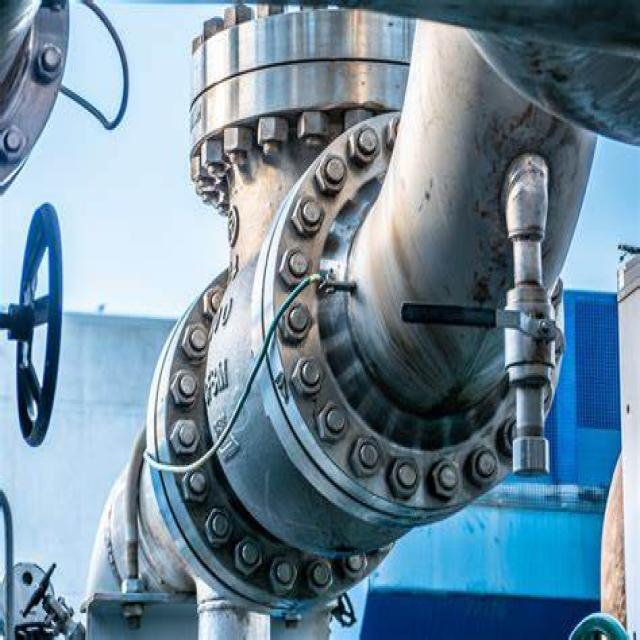blur bolt: (35, 38, 65, 83), (1, 121, 27, 166), (342, 544, 370, 582)
bolt head: (304, 552, 335, 598), (266, 553, 297, 597), (231, 535, 262, 577), (203, 505, 232, 548)
bolt nut: (425, 452, 463, 503), (386, 451, 421, 501), (277, 242, 313, 290), (348, 431, 384, 478), (462, 444, 498, 491), (278, 301, 315, 346), (289, 352, 325, 398), (347, 120, 381, 168), (290, 191, 326, 236), (313, 152, 347, 196), (316, 400, 348, 446), (168, 416, 202, 458), (181, 465, 212, 507), (170, 370, 200, 408), (180, 323, 208, 362)
bolt side: (254, 115, 290, 150), (293, 114, 329, 146), (198, 141, 234, 173), (220, 124, 254, 157), (119, 597, 147, 624)
